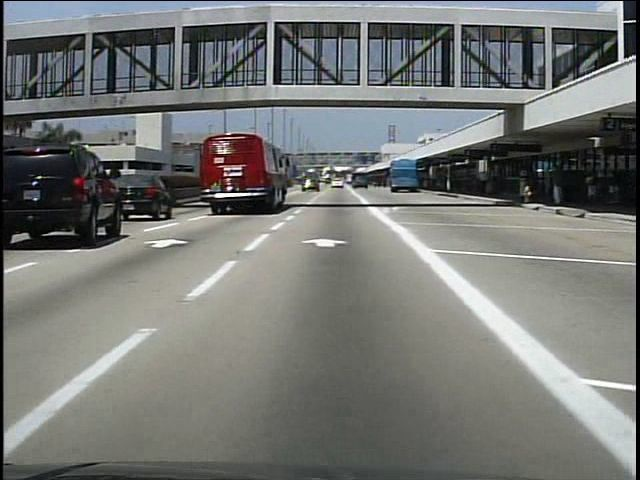person: (583, 169, 601, 213), (475, 169, 487, 193)
